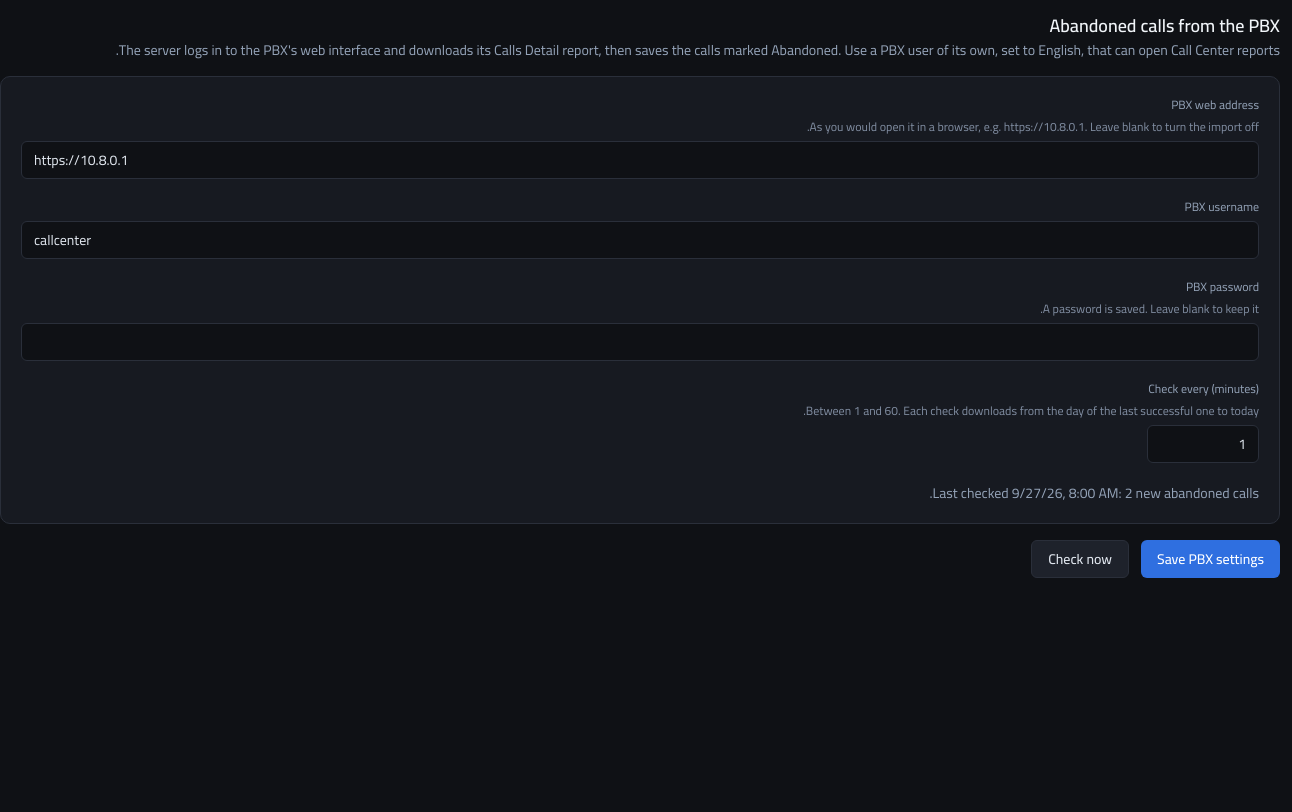
settings › keeps what is typed on the PBX import card when Check now brings a new status
This screenshot has width=1292, height=812.
Replace the text in the field showing "callcenter" with "callcenter-new" at {"x": 640, "y": 240}, box [21,221,1259,259]
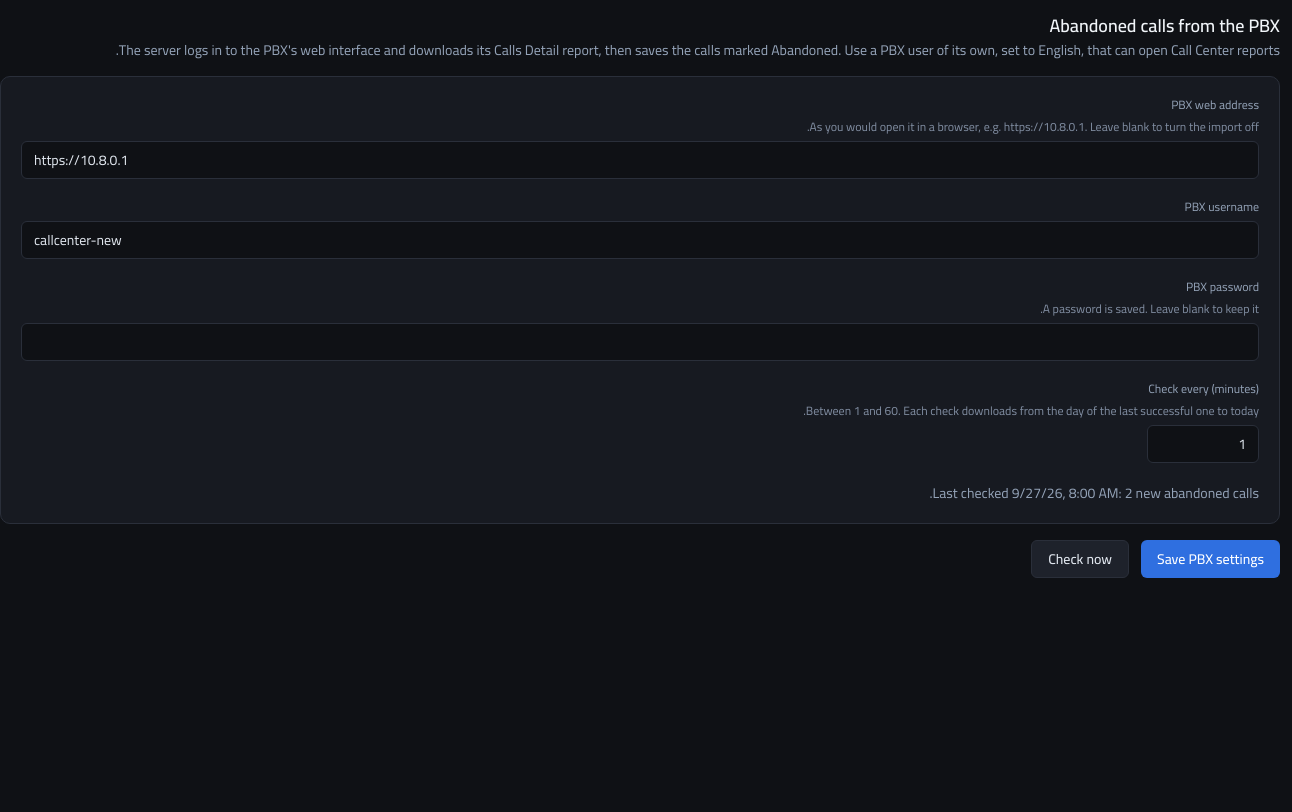
Click the button "Check now" at {"x": 1080, "y": 559}, box [1031,540,1129,578]
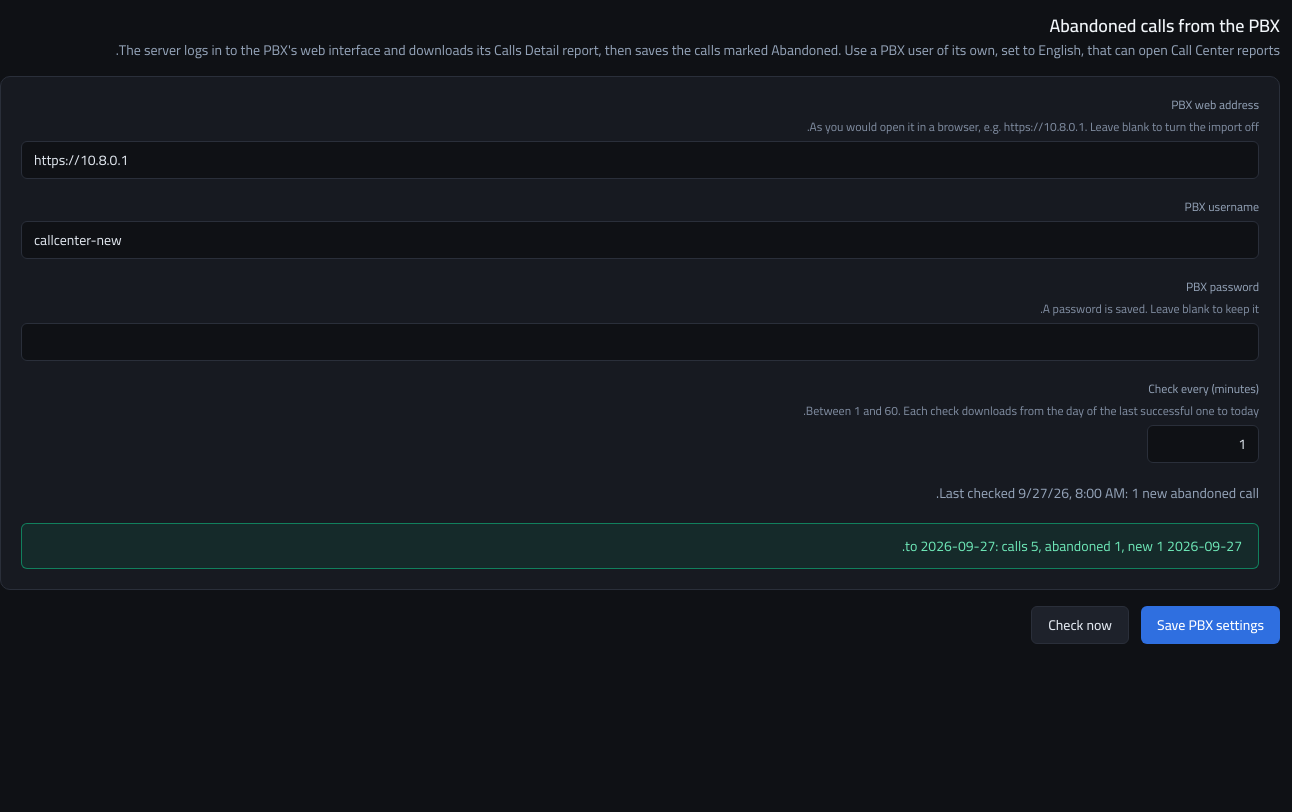
Now the text "Last checked 9/27/26, 8:00 AM: 1 new abandoned call." is shown, box [936,480,1259,506]
